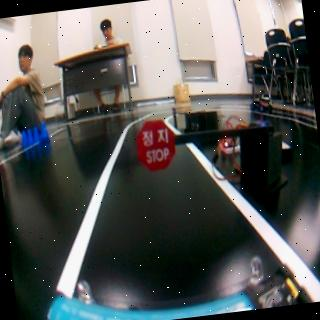stop: (134, 116, 178, 173)
